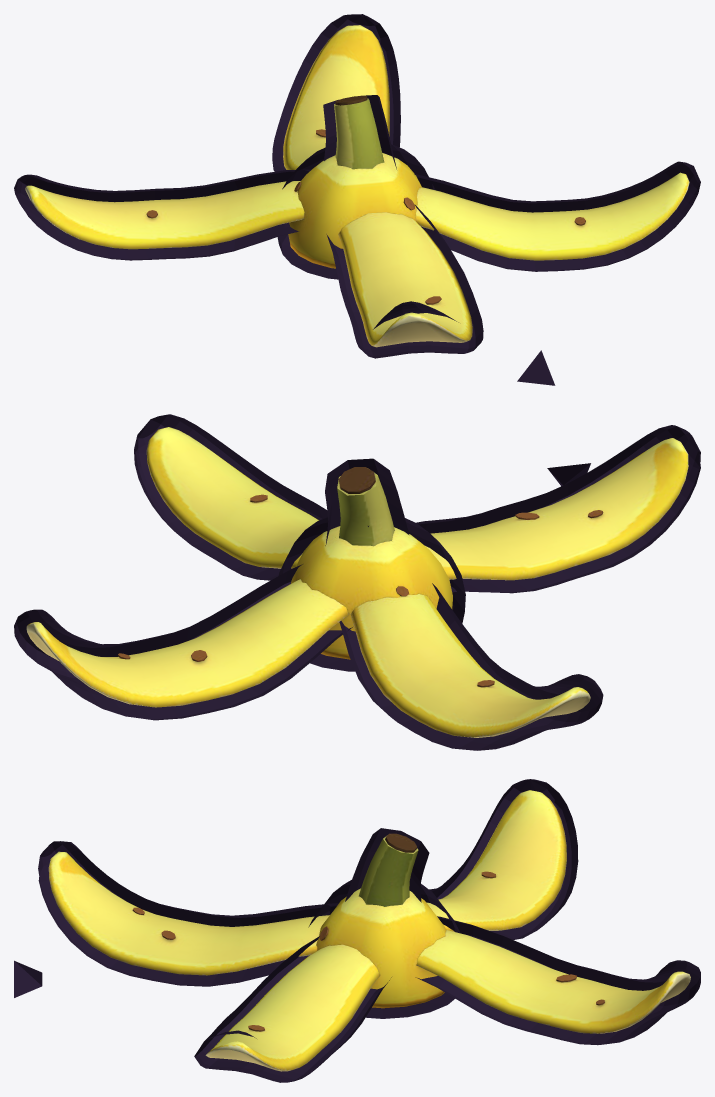
File: BananaPeel.glb
The picture shows the model from 3 angles, top to bottom: view 1: azimuth 30°, elevation 25°; view 2: azimuth 150°, elevation 25°; view 3: azimuth 270°, elevation 25°; orthographic projection. The views are drawn at different scales.
Parts seen in each view (by area): view 1: BananaPeel, BananaPeel_Outline, BananaPeel_Unit; view 2: BananaPeel, BananaPeel_Outline, BananaPeel_Unit; view 3: BananaPeel, BananaPeel_Outline, BananaPeel_Unit.
Boxes of the visible parts, box(x1,y1,x2,y2) form: BananaPeel: box(25, 25, 689, 347); BananaPeel_Outline: box(14, 14, 700, 358); BananaPeel_Unit: box(517, 350, 555, 385); BananaPeel: box(26, 427, 688, 737); BananaPeel_Outline: box(14, 414, 700, 750); BananaPeel_Unit: box(547, 463, 590, 486); BananaPeel: box(48, 790, 690, 1071); BananaPeel_Outline: box(38, 779, 700, 1082); BananaPeel_Unit: box(14, 960, 42, 997).
Size of the model in its own units: 1.77 by 0.5078 by 1.94.
2 materials, 2 textured.
